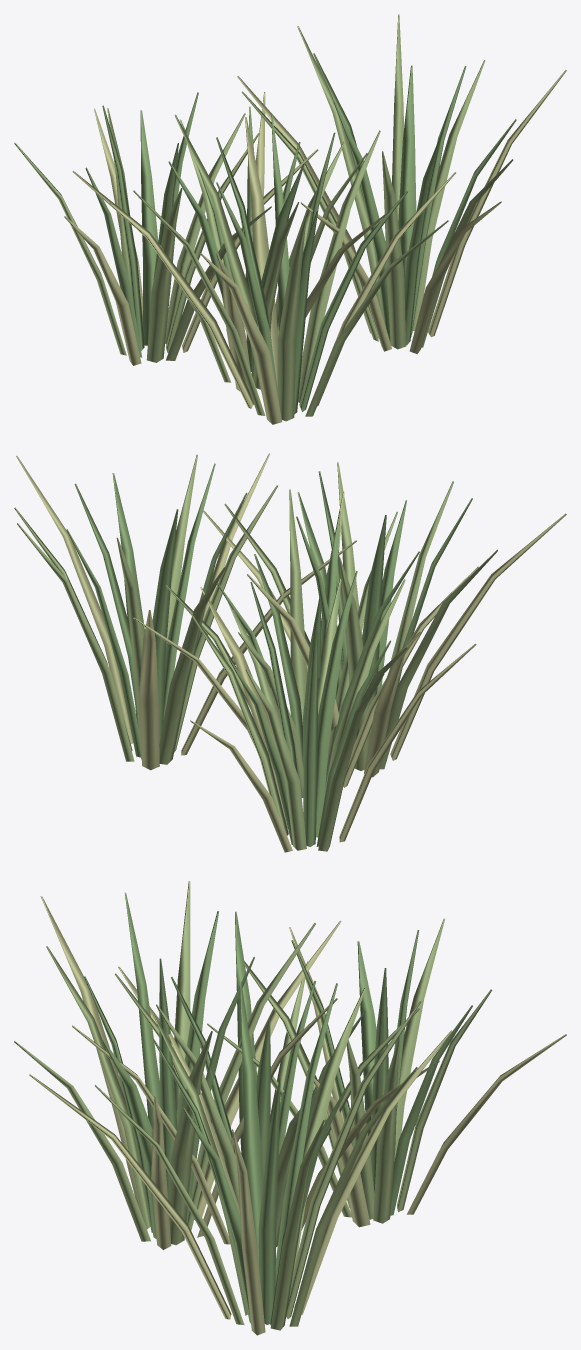
File: campo_grass_7.glb
The picture shows the model from 3 angles, top to bottom: view 1: azimuth 30°, elevation 25°; view 2: azimuth 150°, elevation 25°; view 3: azimuth 270°, elevation 25°; orthographic projection. The views are drawn at different scales.
Parts seen in each view (by area): view 1: CampoGrassFresh, CampoGrassDeep, CampoGrassGold; view 2: CampoGrassFresh, CampoGrassDeep, CampoGrassGold; view 3: CampoGrassFresh, CampoGrassDeep, CampoGrassGold.
Boxes of the visible parts, x1=… form: CampoGrassFresh: x1=14, y1=14, x2=513, y2=421; CampoGrassDeep: x1=85, y1=53, x2=516, y2=414; CampoGrassGold: x1=64, y1=70, x2=566, y2=424; CampoGrassFresh: x1=14, y1=454, x2=497, y2=851; CampoGrassDeep: x1=66, y1=463, x2=472, y2=846; CampoGrassGold: x1=16, y1=453, x2=566, y2=852; CampoGrassFresh: x1=14, y1=881, x2=492, y2=1330; CampoGrassDeep: x1=84, y1=892, x2=472, y2=1325; CampoGrassGold: x1=29, y1=896, x2=566, y2=1335.
Size of the model in its own units: 1.18 by 0.6548 by 1.07.
